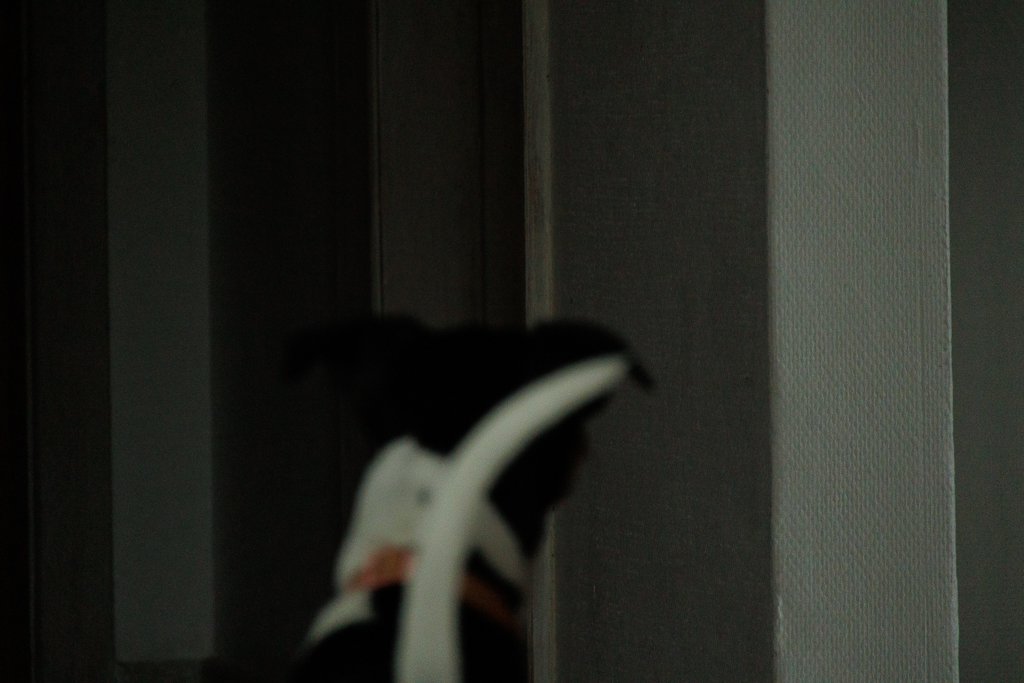Dog: (263, 287, 675, 683)
